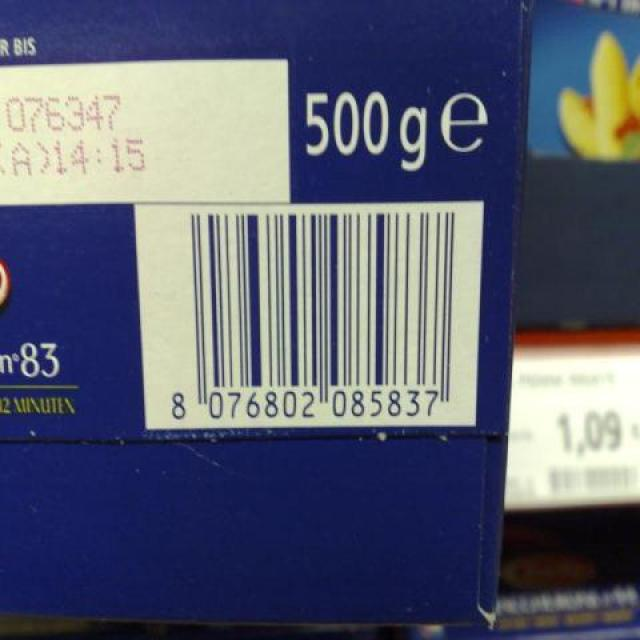Barcode: (134, 206, 482, 422)
